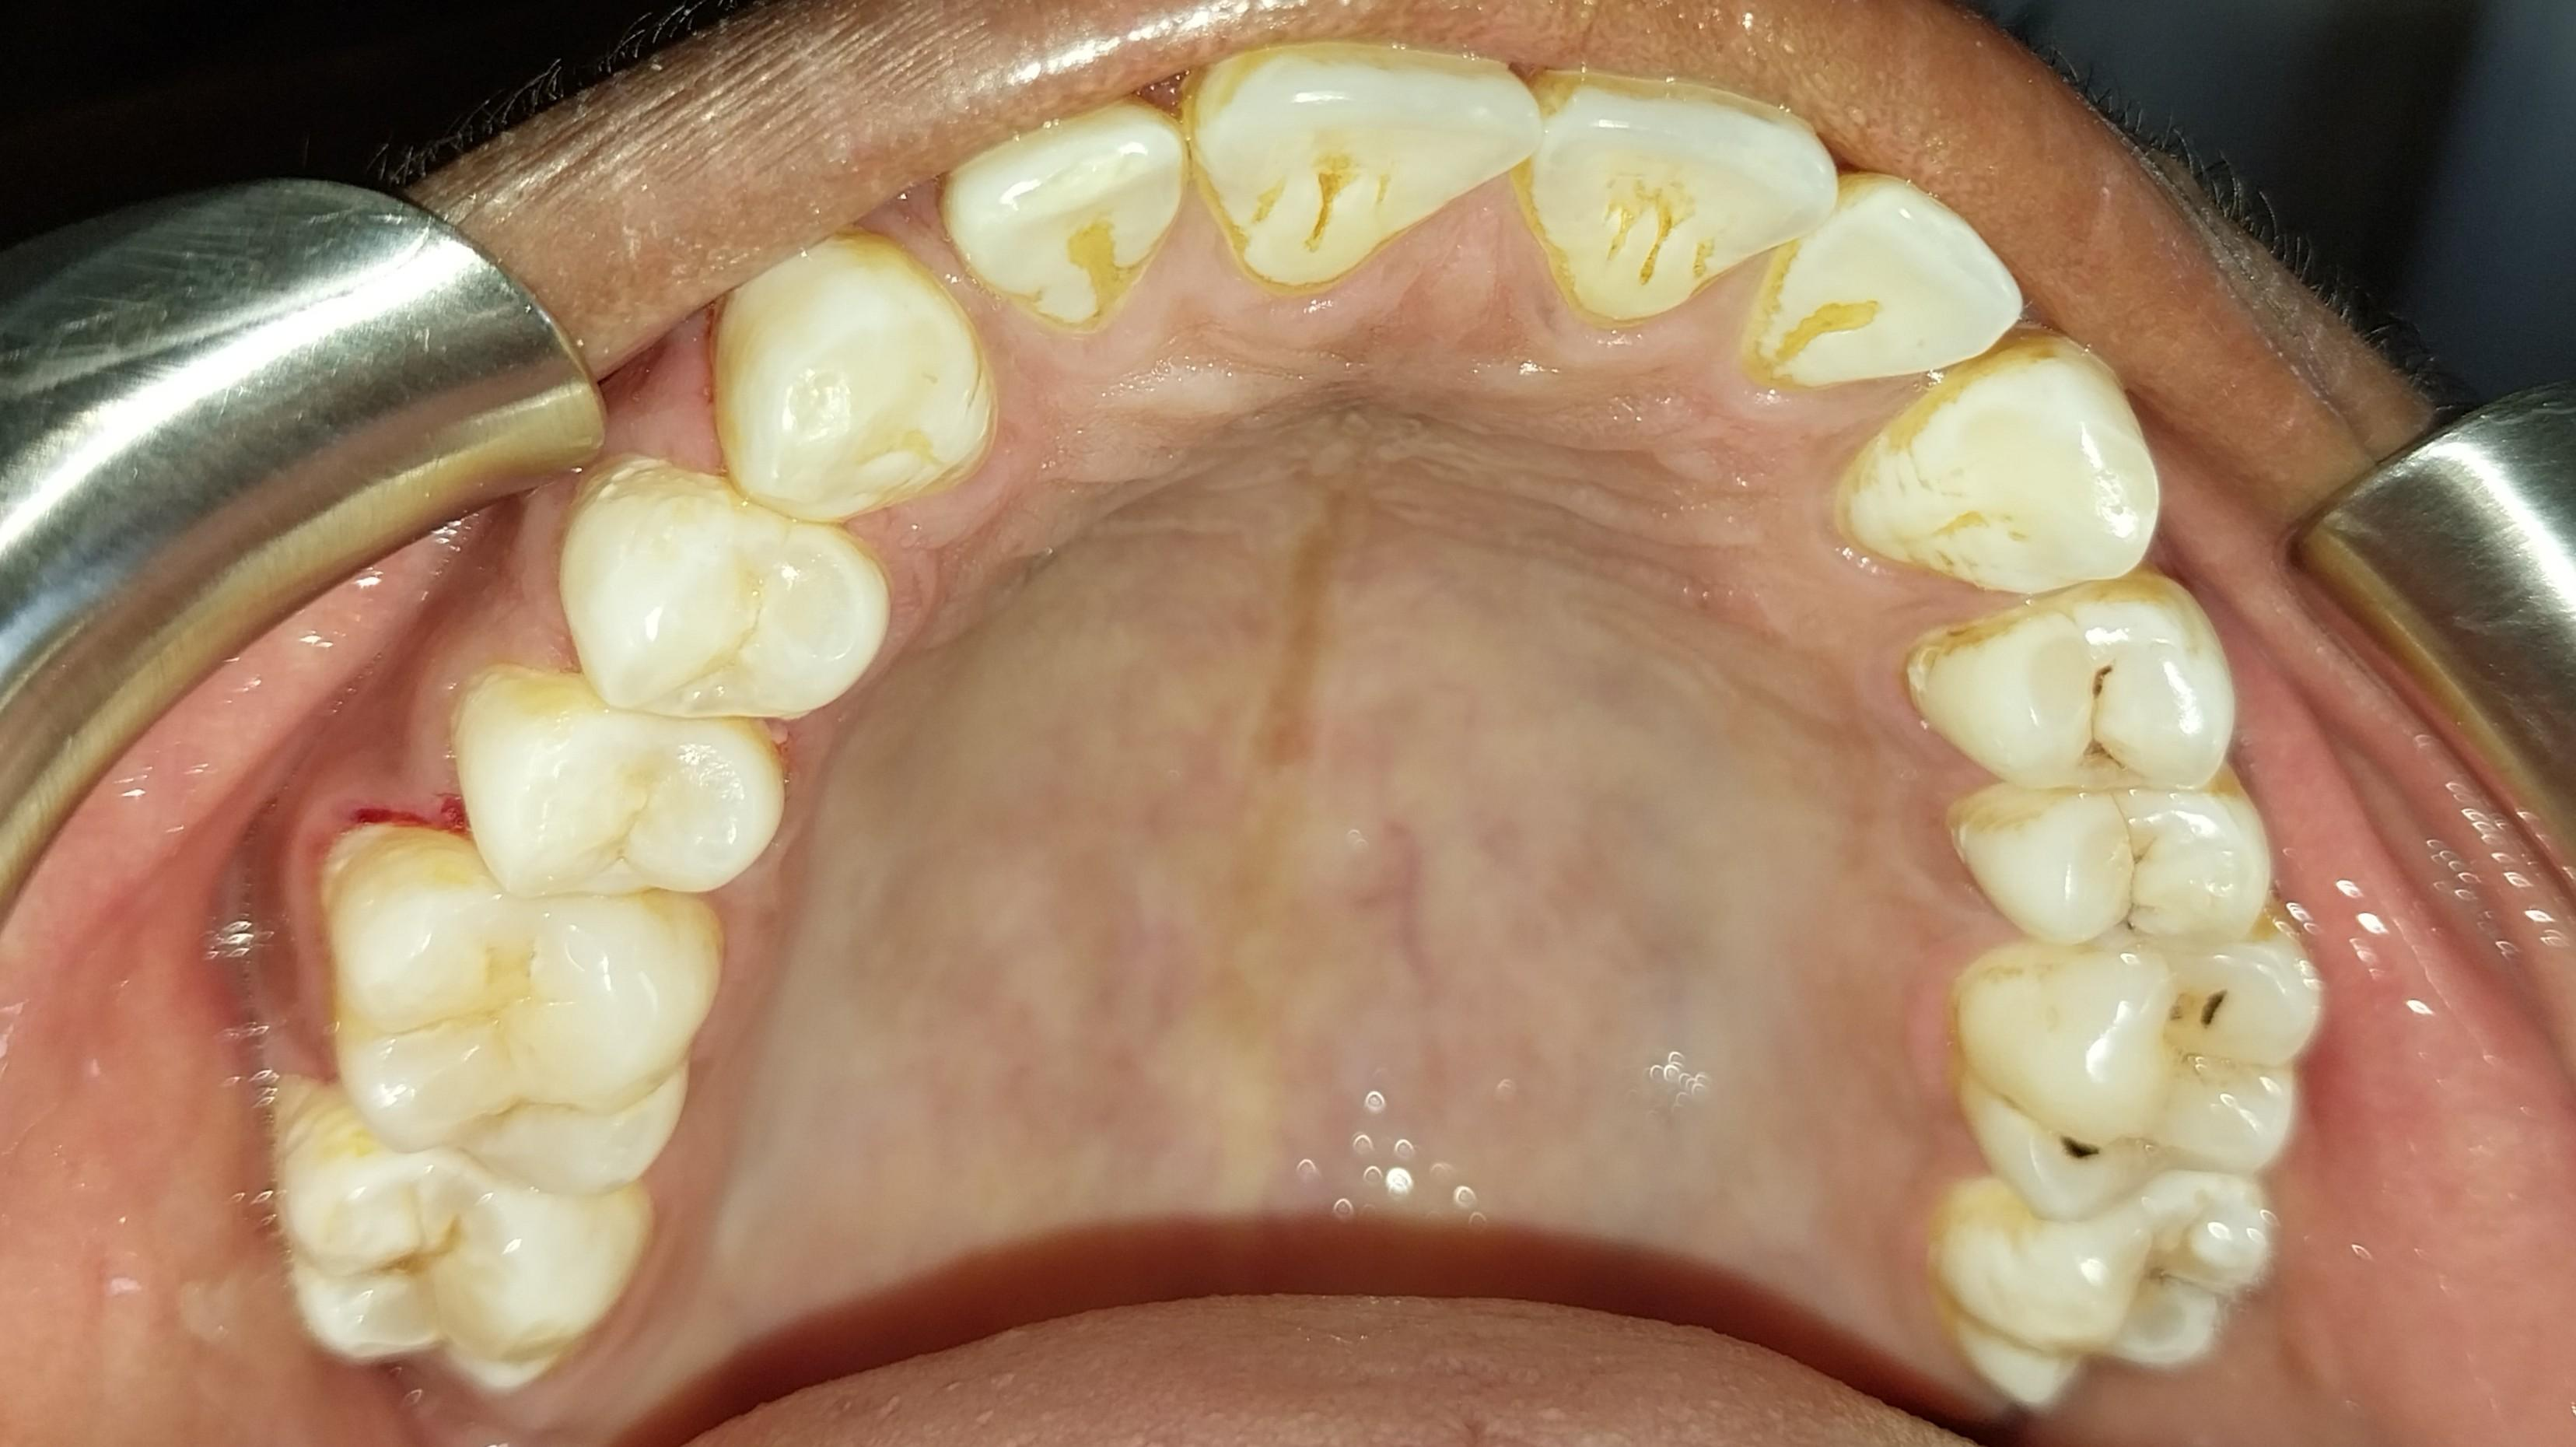D: (1955, 940, 2321, 1212), (1908, 588, 2233, 799), (1951, 784, 2277, 955)
